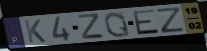4: (51, 16, 73, 43)
E: (131, 8, 162, 37)
K: (22, 18, 47, 44)
Q: (103, 11, 133, 38)
Z: (155, 6, 187, 35), (77, 12, 106, 40)
